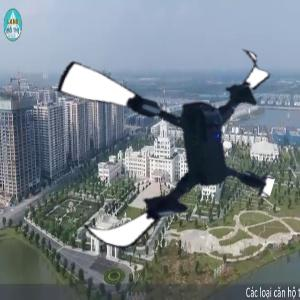drone: (45, 24, 283, 262)
